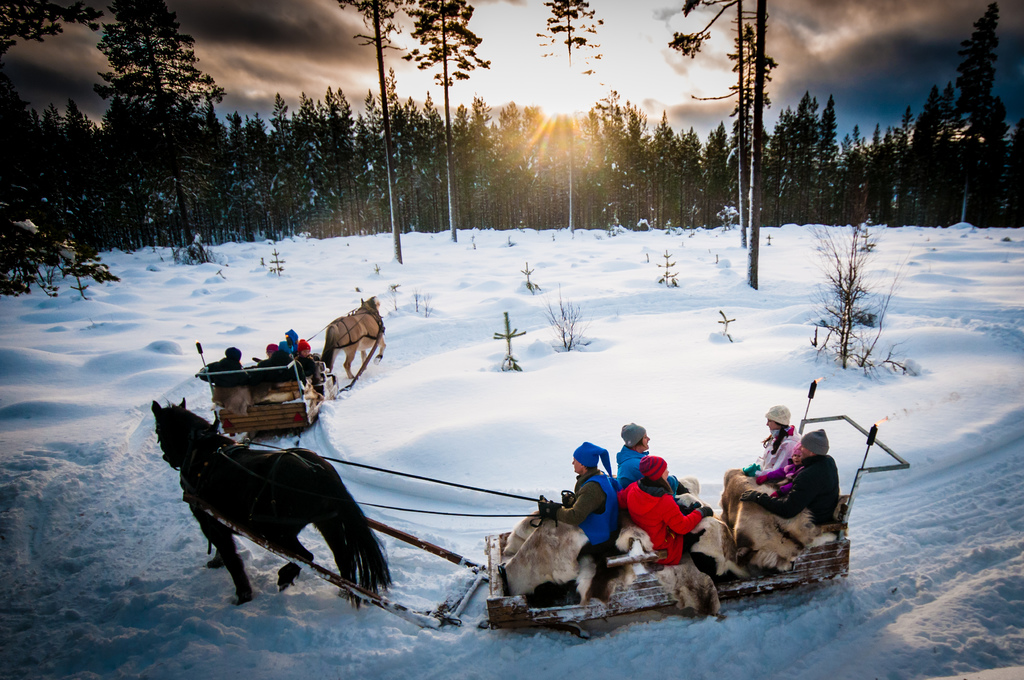Person: (615, 455, 715, 566), (736, 425, 838, 522), (538, 441, 621, 557), (611, 421, 701, 496), (192, 336, 317, 385), (739, 402, 802, 484)
